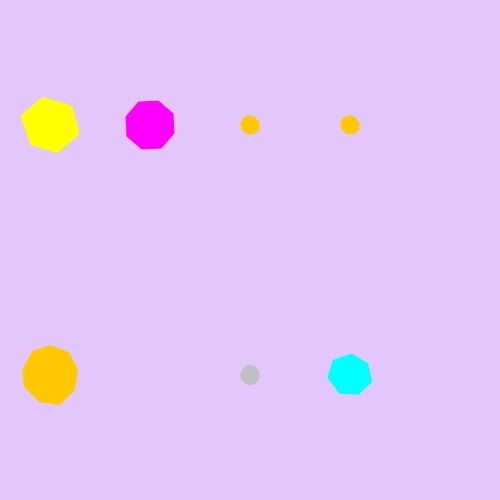decagon: (235, 361, 265, 389)
heptagon: (325, 351, 376, 400)
hexagon: (16, 97, 84, 153)
nonagon: (17, 344, 83, 407), (236, 111, 265, 139), (336, 111, 365, 139)
octagon: (121, 96, 180, 155)
